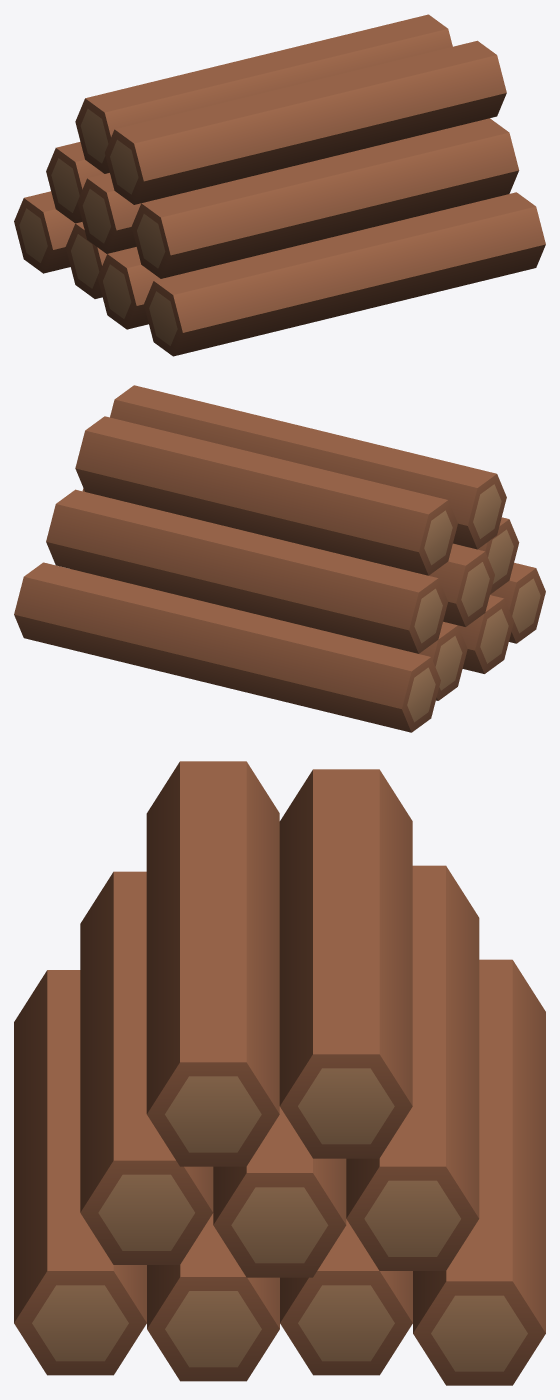
Rendered from pile of wood.fbx.
3 views of the same model, one above another, from view 1: azimuth 30°, elevation 25°; view 2: azimuth 150°, elevation 25°; view 3: azimuth 270°, elevation 25° (orthographic). The views are drawn at different scales.
Visible parts, largest first — view 1: pile_of_wood; view 2: pile_of_wood; view 3: pile_of_wood.
Part boxes in pixels (bbox=[...]): pile_of_wood: bbox=[14, 14, 545, 356]; pile_of_wood: bbox=[14, 385, 545, 732]; pile_of_wood: bbox=[14, 761, 545, 1385].
Size of the model in its own units: 399 by 181 by 279.
1 material, 1 textured.
